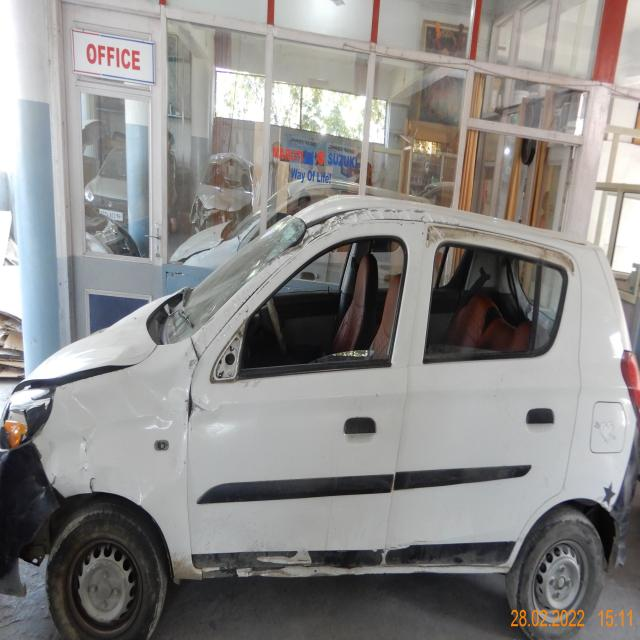damage: (292, 203, 429, 255), (172, 549, 382, 576), (6, 383, 51, 447), (183, 338, 207, 424), (79, 331, 146, 358), (75, 432, 102, 497), (426, 220, 476, 245), (533, 247, 577, 273), (50, 472, 58, 487)
